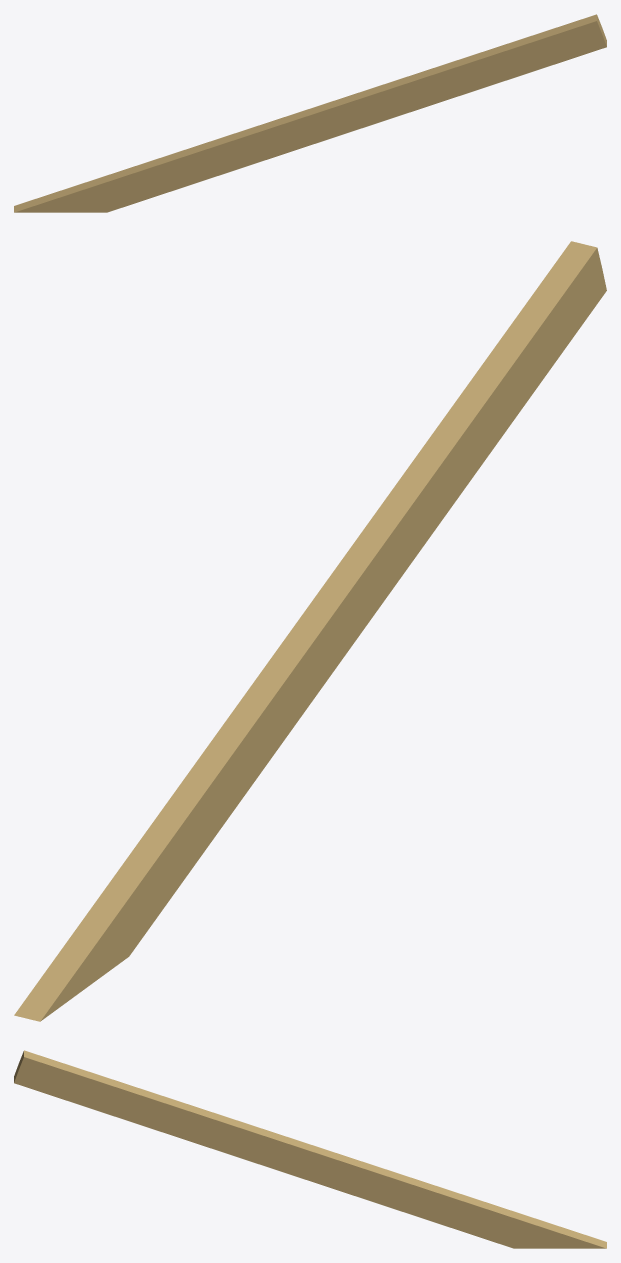
3 renders of one model, top to bottom at view 1: azimuth 90°, elevation 25°; view 2: azimuth 150°, elevation 25°; view 3: azimuth 270°, elevation 25°, orthographic. The views are drawn at different scales.
Parts seen in each view (by area): view 1: L1-3-S7-323-M01; view 2: L1-3-S7-323-M01; view 3: L1-3-S7-323-M01.
Boxes of the visible parts, x1,y1,x2,y2 form: L1-3-S7-323-M01: (14, 14, 606, 212); L1-3-S7-323-M01: (14, 241, 606, 1021); L1-3-S7-323-M01: (14, 1050, 606, 1248).
Bounding box in the file's own units: 0.045 × 0.6026 × 1.69.
